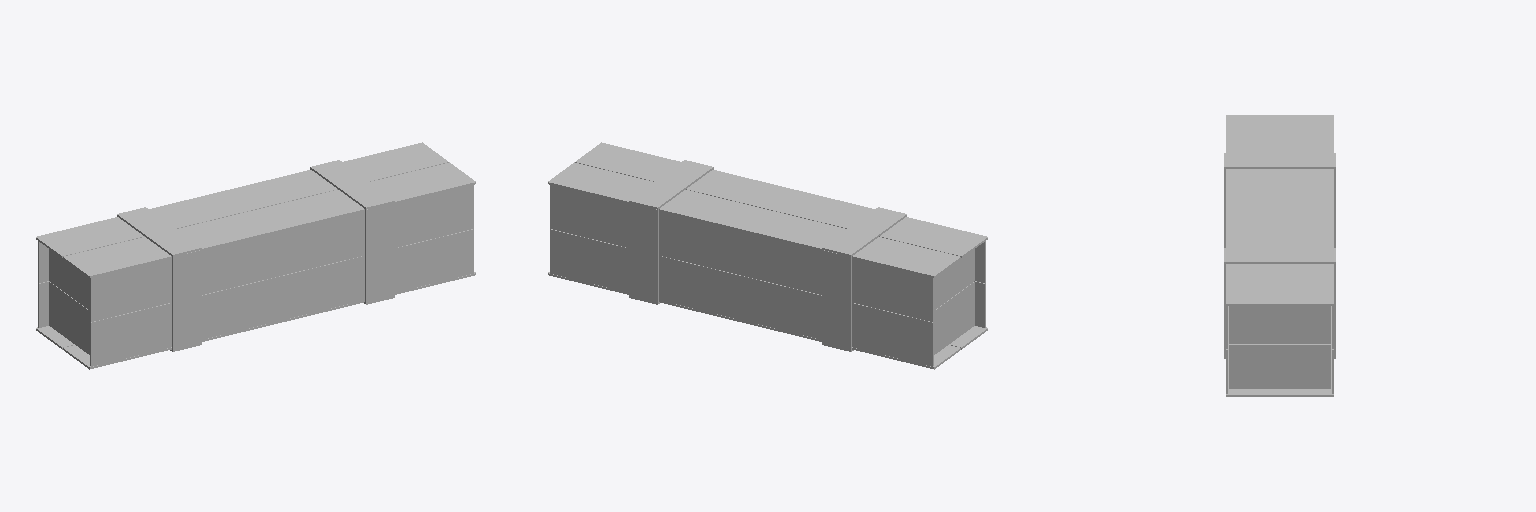
Rendered from Crate-03.obj.
3 views of the same model, side by side, from view 1: azimuth 30°, elevation 25°; view 2: azimuth 150°, elevation 25°; view 3: azimuth 270°, elevation 25° (orthographic).
Visible parts, largest first — view 1: Crate_03_case, Crate_03_cover; view 2: Crate_03_case, Crate_03_cover; view 3: Crate_03_cover, Crate_03_case.
Part boxes in pixels (x1,y1,x2,y2): Crate_03_case: (36,169,475,369); Crate_03_cover: (36,142,475,277); Crate_03_case: (548,169,987,369); Crate_03_cover: (548,142,987,277); Crate_03_cover: (1224,115,1335,305); Crate_03_case: (1224,169,1335,396).
Bounding box in the file's own units: 1 × 0.24 × 0.251.